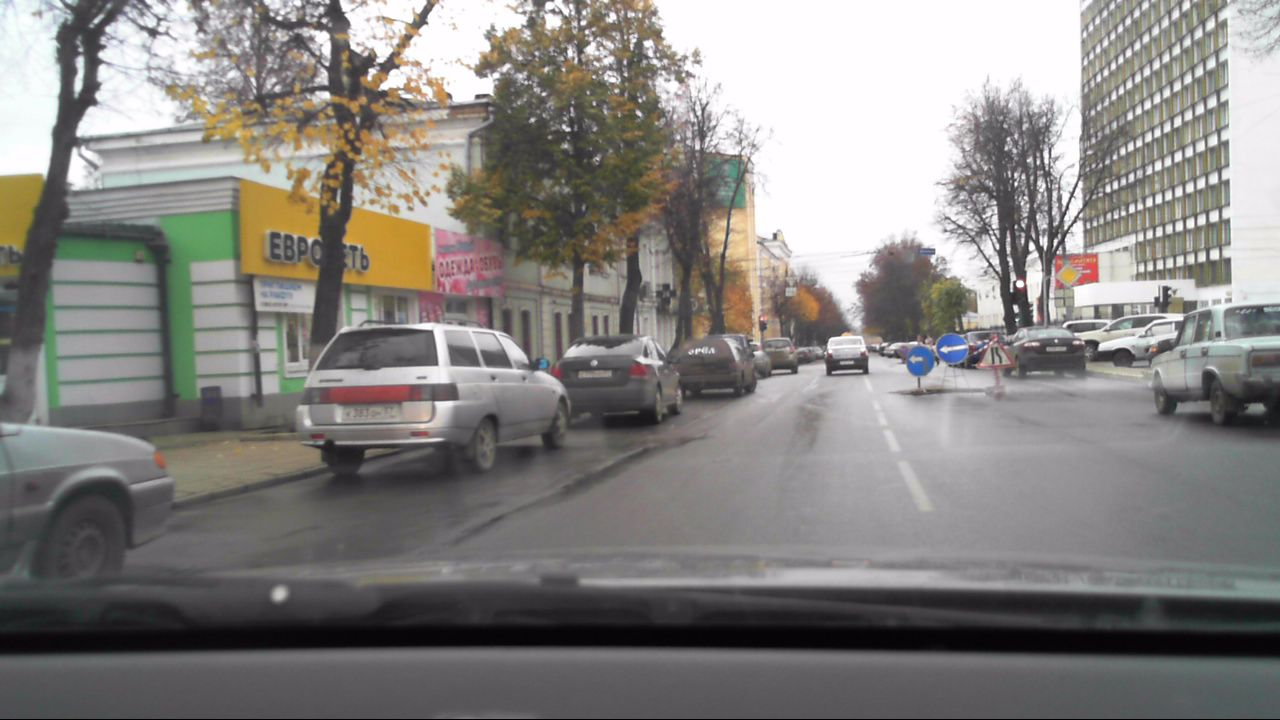Turn Left: (937, 333, 969, 364)
